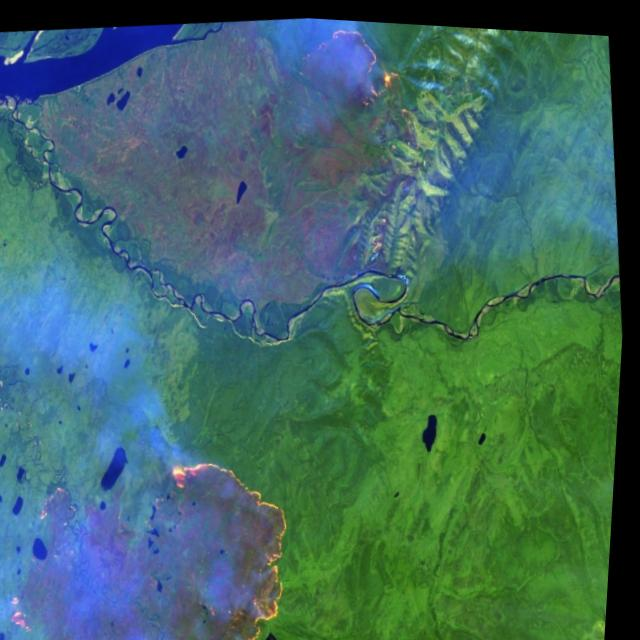fire: (0, 424, 317, 640), (312, 15, 440, 269)
